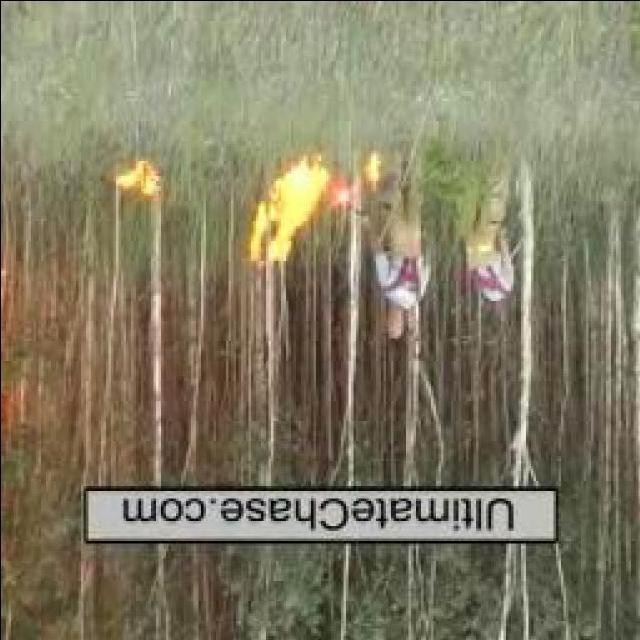Fire: (247, 158, 322, 268), (110, 156, 160, 197), (364, 154, 381, 184)
